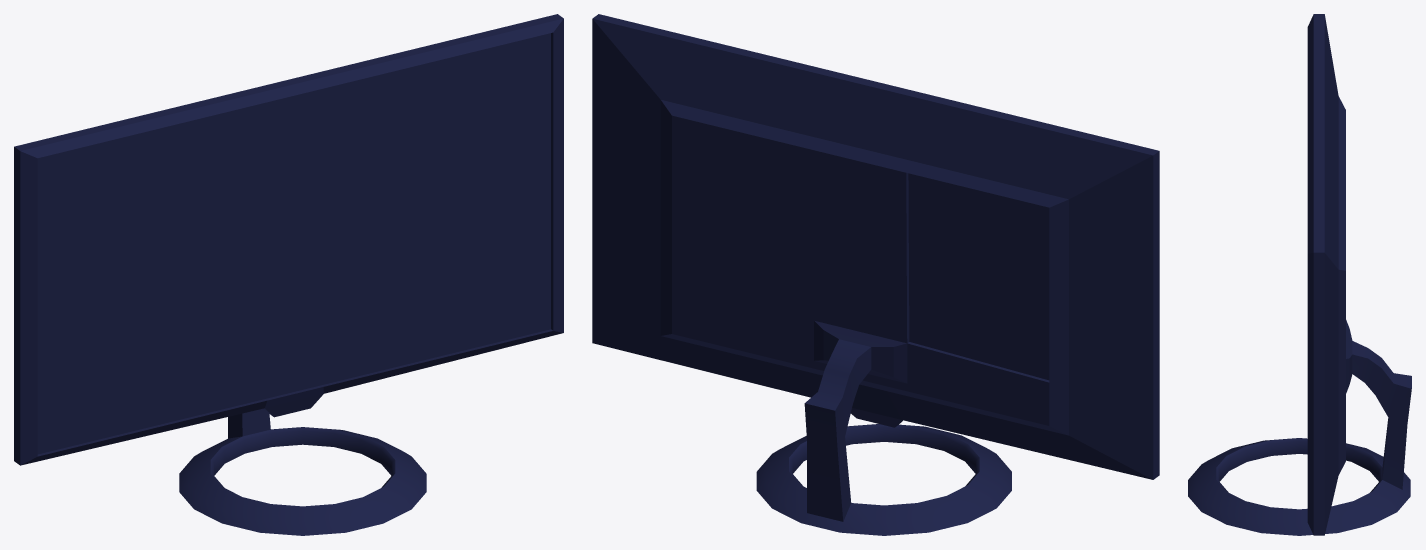
File: Monitor.FBX
3 renders of one model, left to right at view 1: azimuth 30°, elevation 25°; view 2: azimuth 150°, elevation 25°; view 3: azimuth 270°, elevation 25°, orthographic. The views are drawn at different scales.
Visible parts, largest first — view 1: Monitor; view 2: Monitor; view 3: Monitor.
Boxes of the visible parts, x1,y1,x2,y2 form: Monitor: (14, 14, 563, 535); Monitor: (592, 14, 1159, 535); Monitor: (1188, 14, 1411, 535).
Size of the model in its own units: 59.81 by 41.31 by 23.69.
